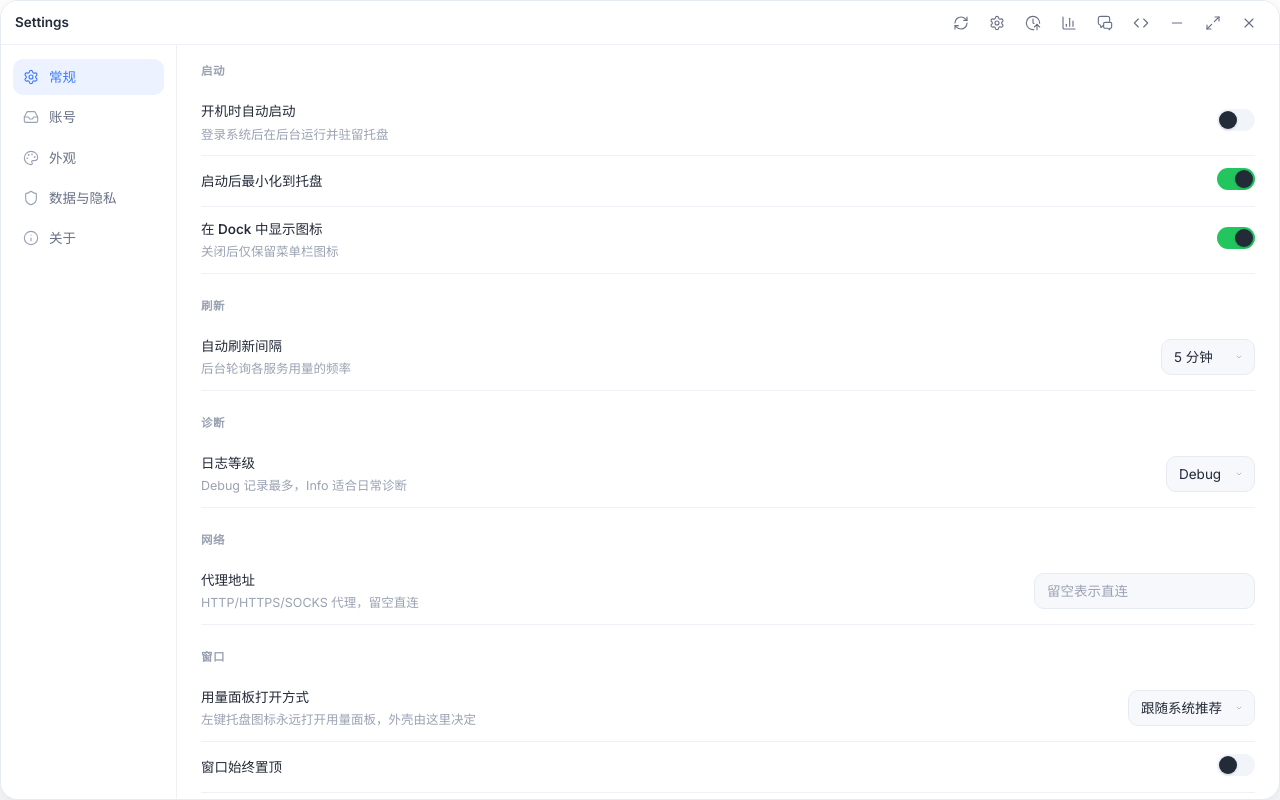
Test: SettingsView - DataSection (t490) › renders secret option checkbox and unified subtitle in desktop mode (AC-001)
This screenshot has width=1280, height=800.
// Switch to Data tab
Click the button with test id "settings-plugin-nav-data". click: click(88, 198)
box: [13,180,164,216]
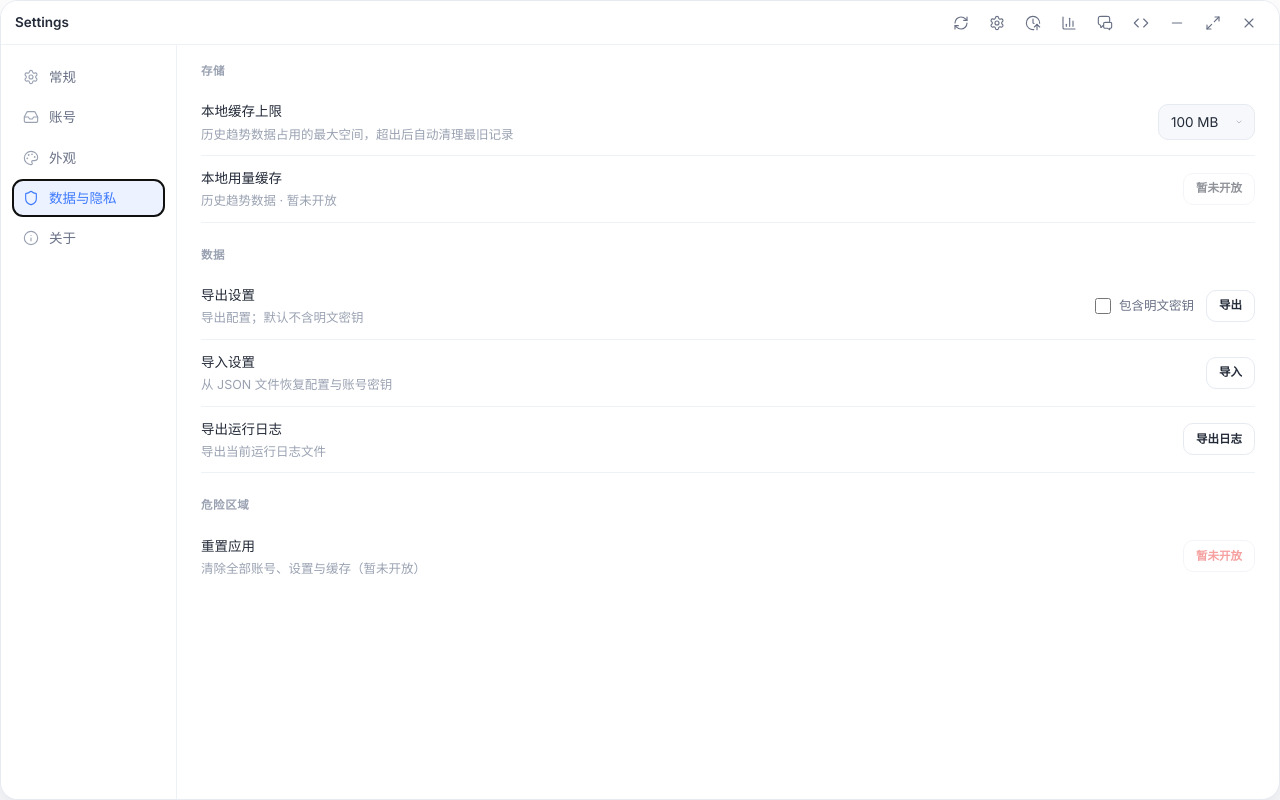
Now the text "导出配置；默认不含明文密钥" is shown, box [201,309,364,327]
Now the checkbox labelled "包含明文密钥" is shown
Now the checkbox labelled "包含明文密钥" is not checked
// Check the checkbox
Click the checkbox labelled "包含明文密钥". click: click(1103, 306)
box: [1095,298,1111,314]
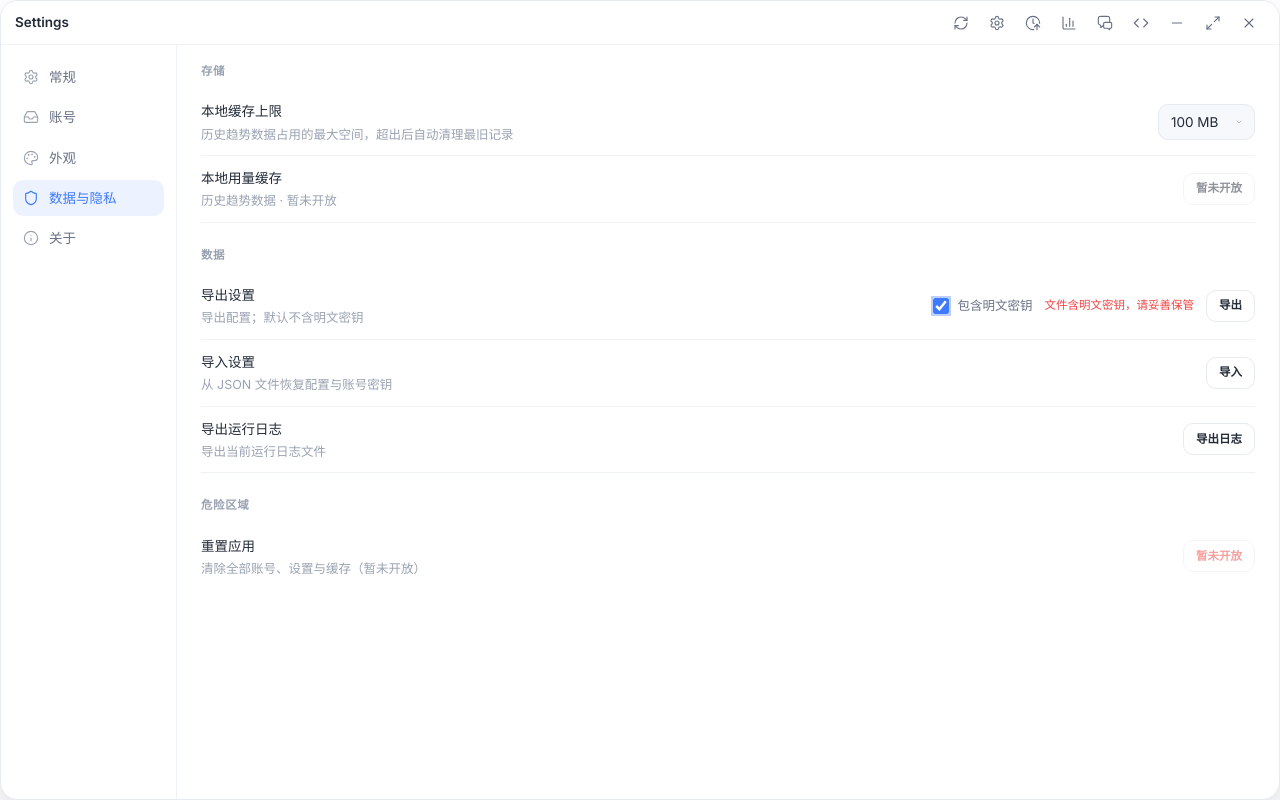
Now the checkbox labelled "包含明文密钥" is checked, box [934,298,950,314]
Now the text "文件含明文密钥，请妥善保管" is shown, box [1044,297,1194,315]
